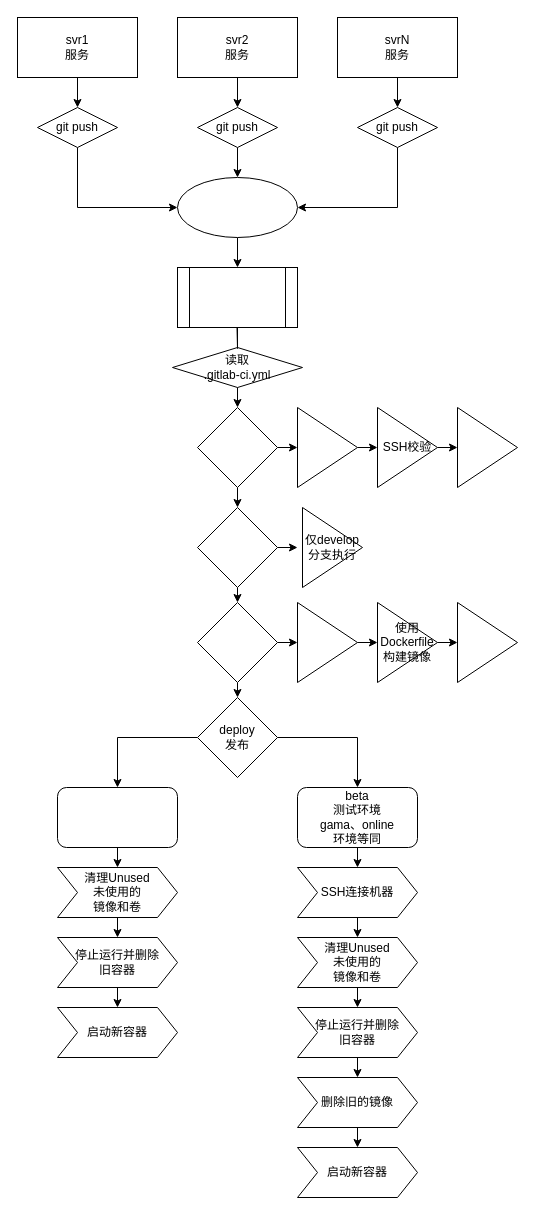
Some shapes in this 535 by 1215 pixel diagram are drawn without their labels. The centre of each missing label's shape, as x and y in pixels:
before_script 前置操作: (237,447)
build 构建: (237,642)
dev 开发环境: (117,817)
Gitlab 代码仓库: (237,207)
gitlab-runner: (237,297)
test 单元测试: (237,547)
拉取项目: (487,447)
推送到 镜像仓库: (487,642)
环境检查: (327,447)
编译代码: (327,642)
